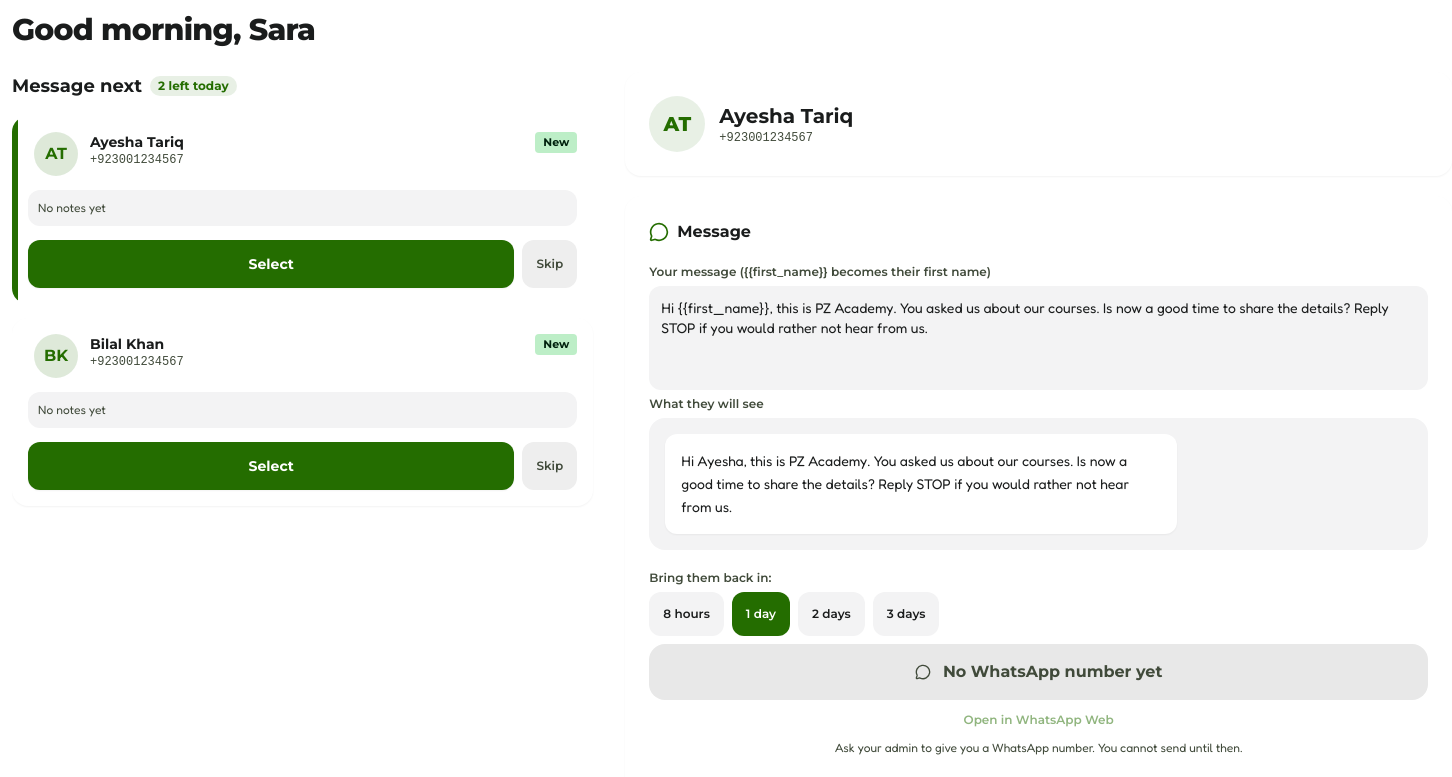
Test: TodayQueue › skip moves a card to the end
The width and height of the screenshot is (1452, 777).
Click the 1st button "Skip" at (550,264), box [522,240,577,288]
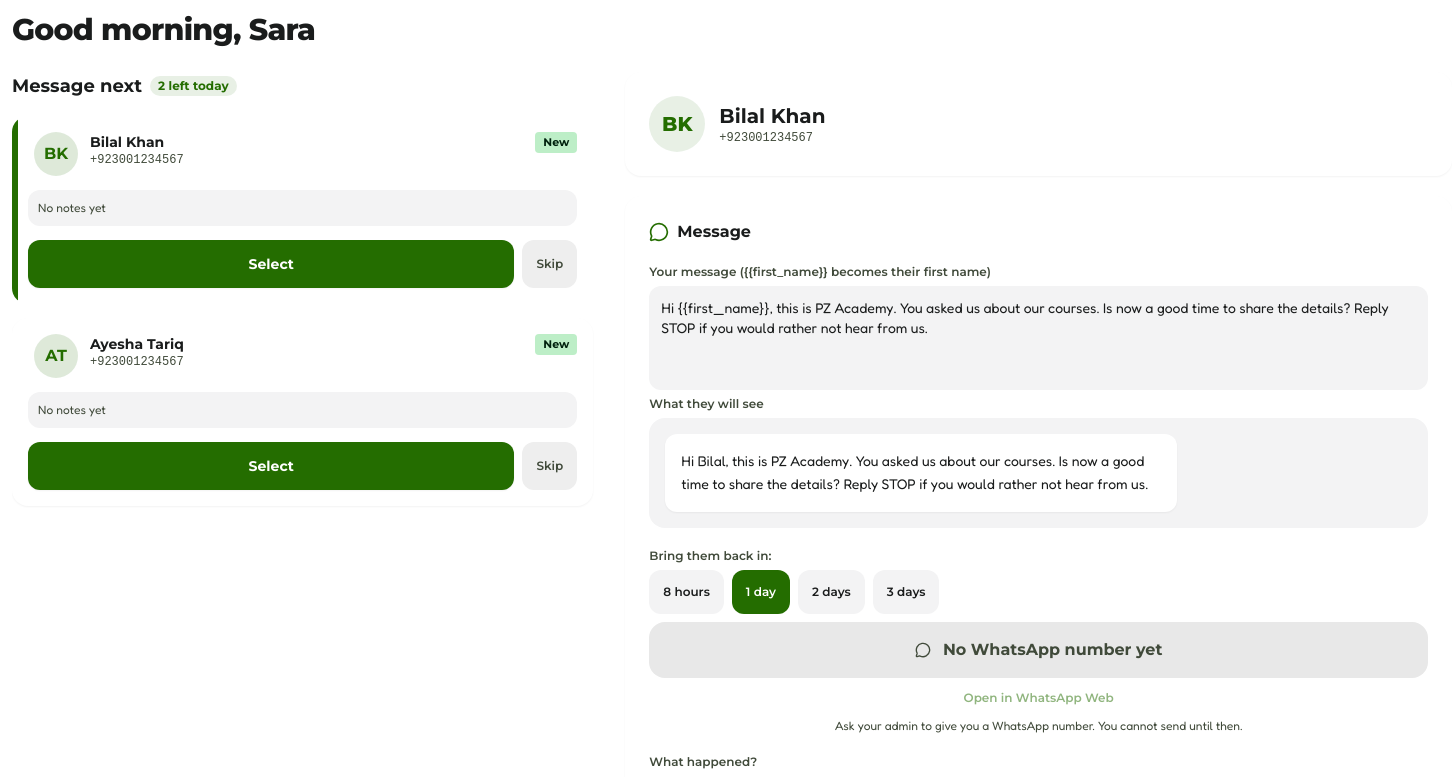
Check: the 1st heading "Bilal Khan" is shown, box [719,102,825,130]
